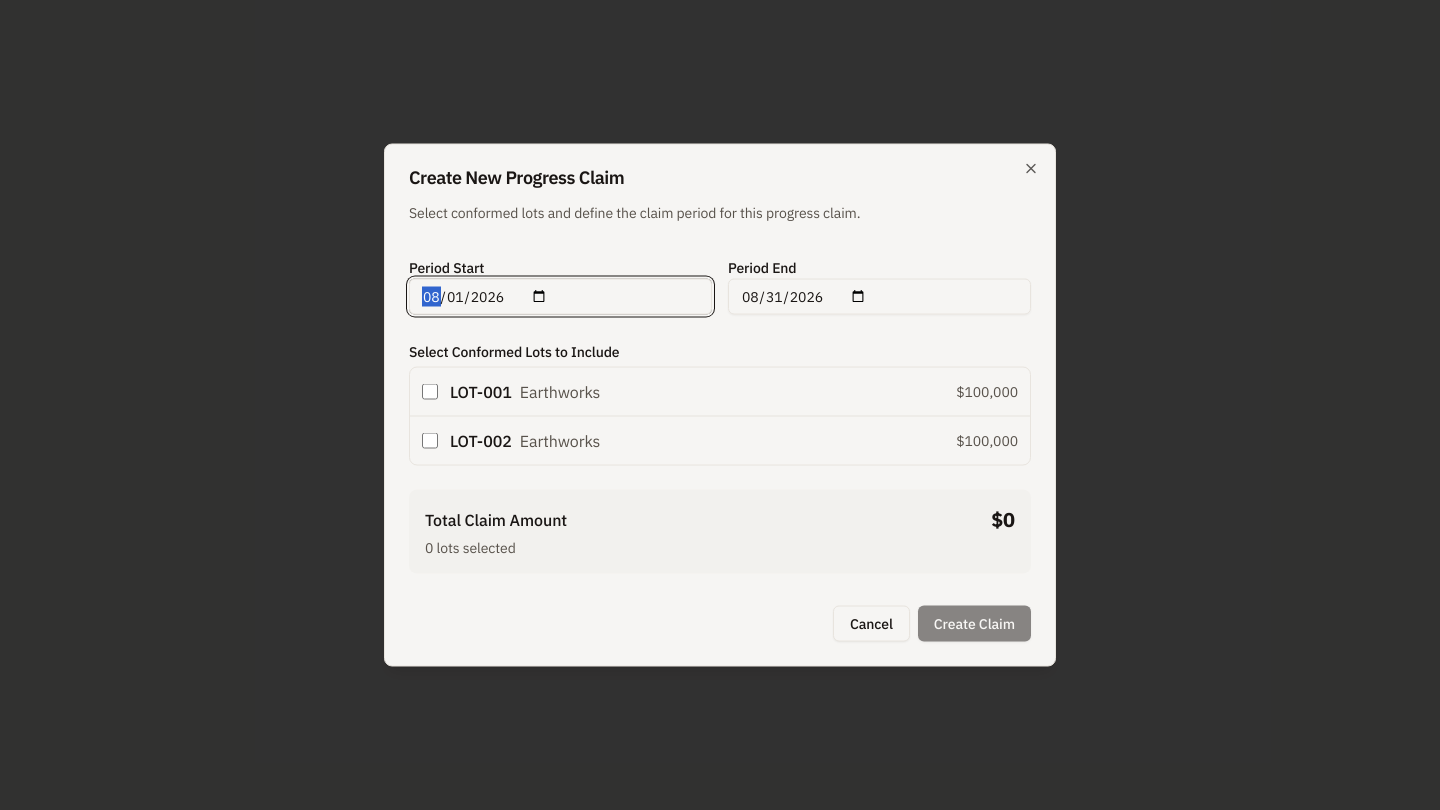
CreateClaimModal create flow › gives each selected lot percentage input a lot-specific accessible name
Expected: the text "LOT-001" is shown, [450,382,512,402]
Click the checkbox named "Select LOT-001". click: click(430, 392)
box: [422,384,438,400]
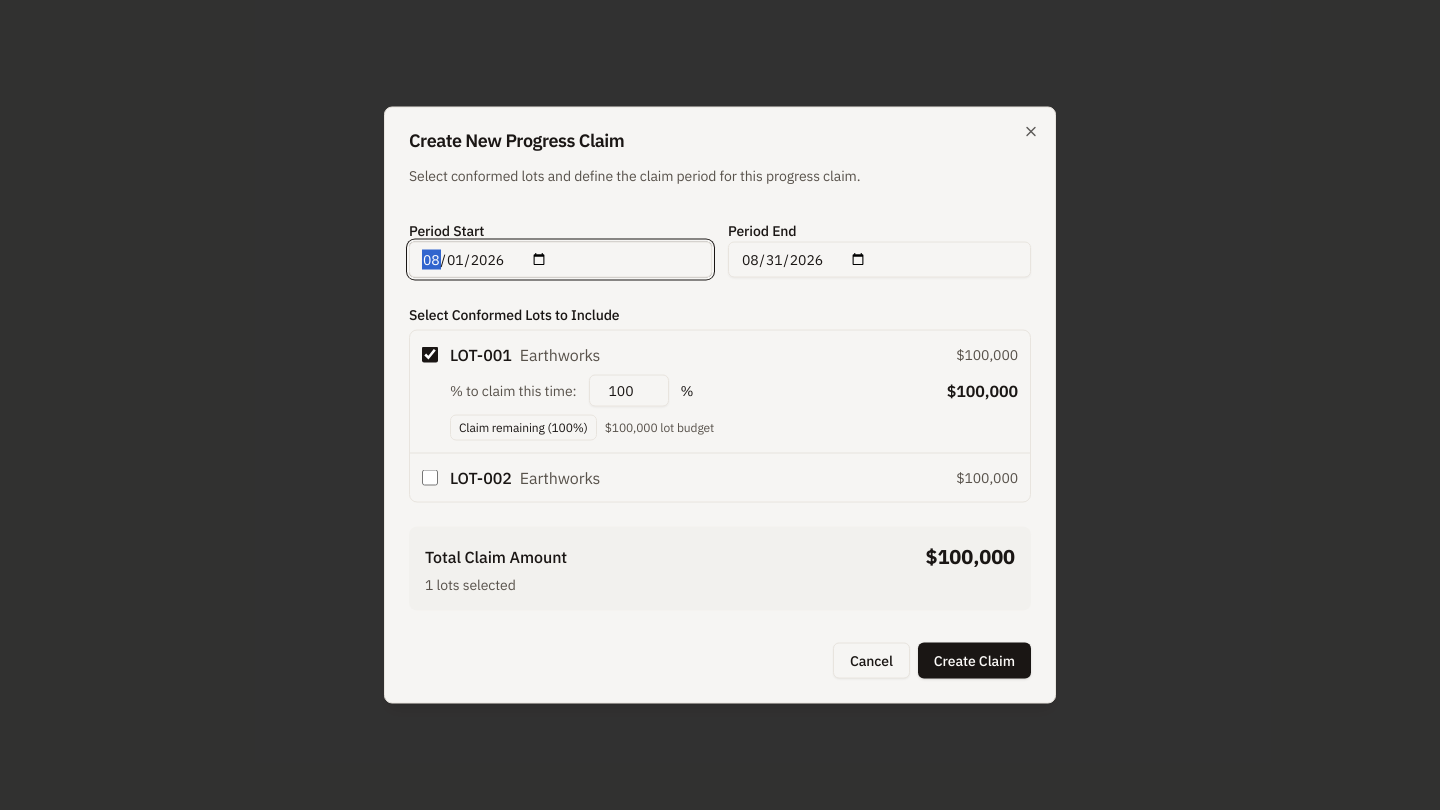
Click the checkbox named "Select LOT-002". click: click(430, 478)
box: [422,470,438,486]
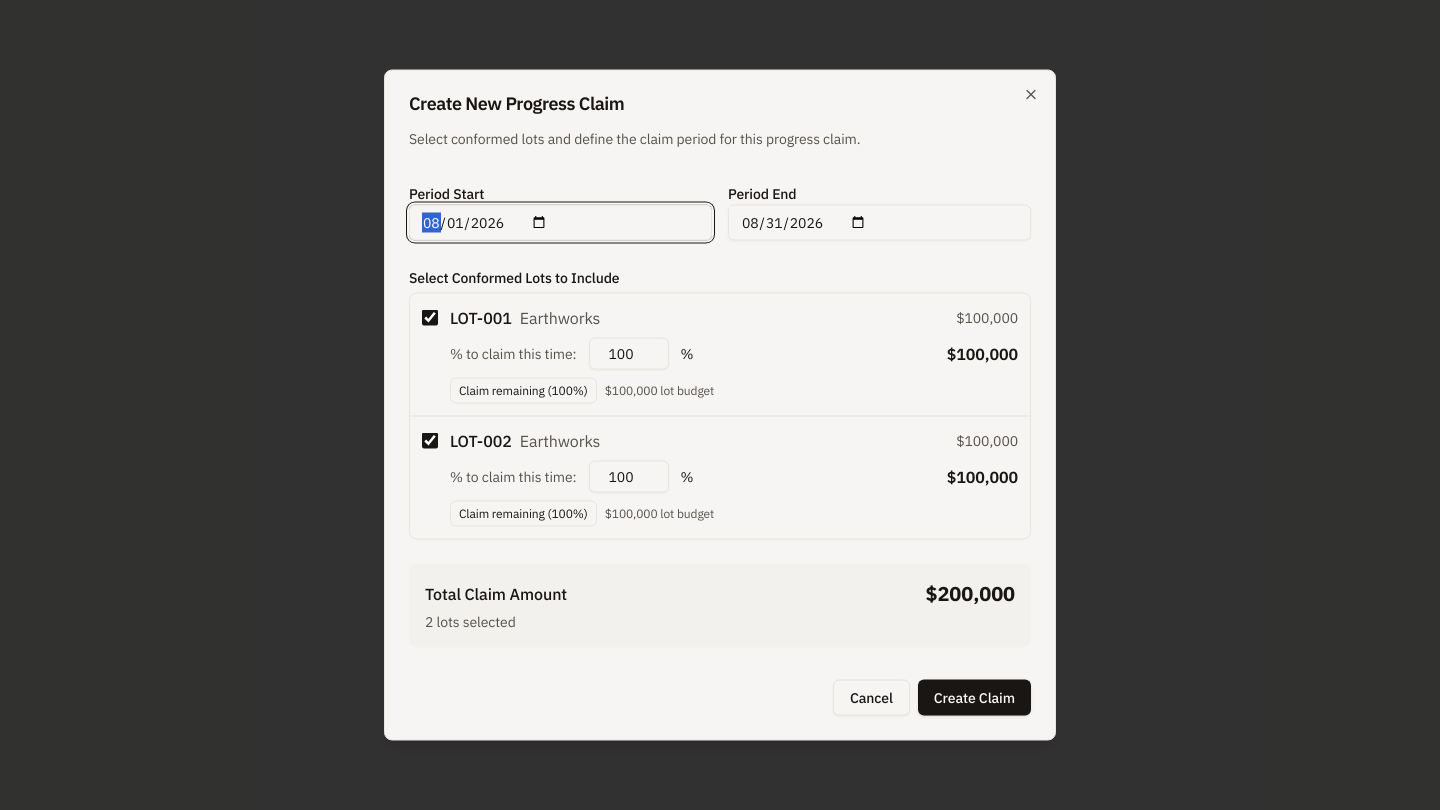
Now the number field labelled "% to claim this time:" below "LOT-001" is shown, box [588,338,668,370]
Now the number field labelled "% to claim this time:" below "LOT-002" is shown, box [588,460,668,492]
